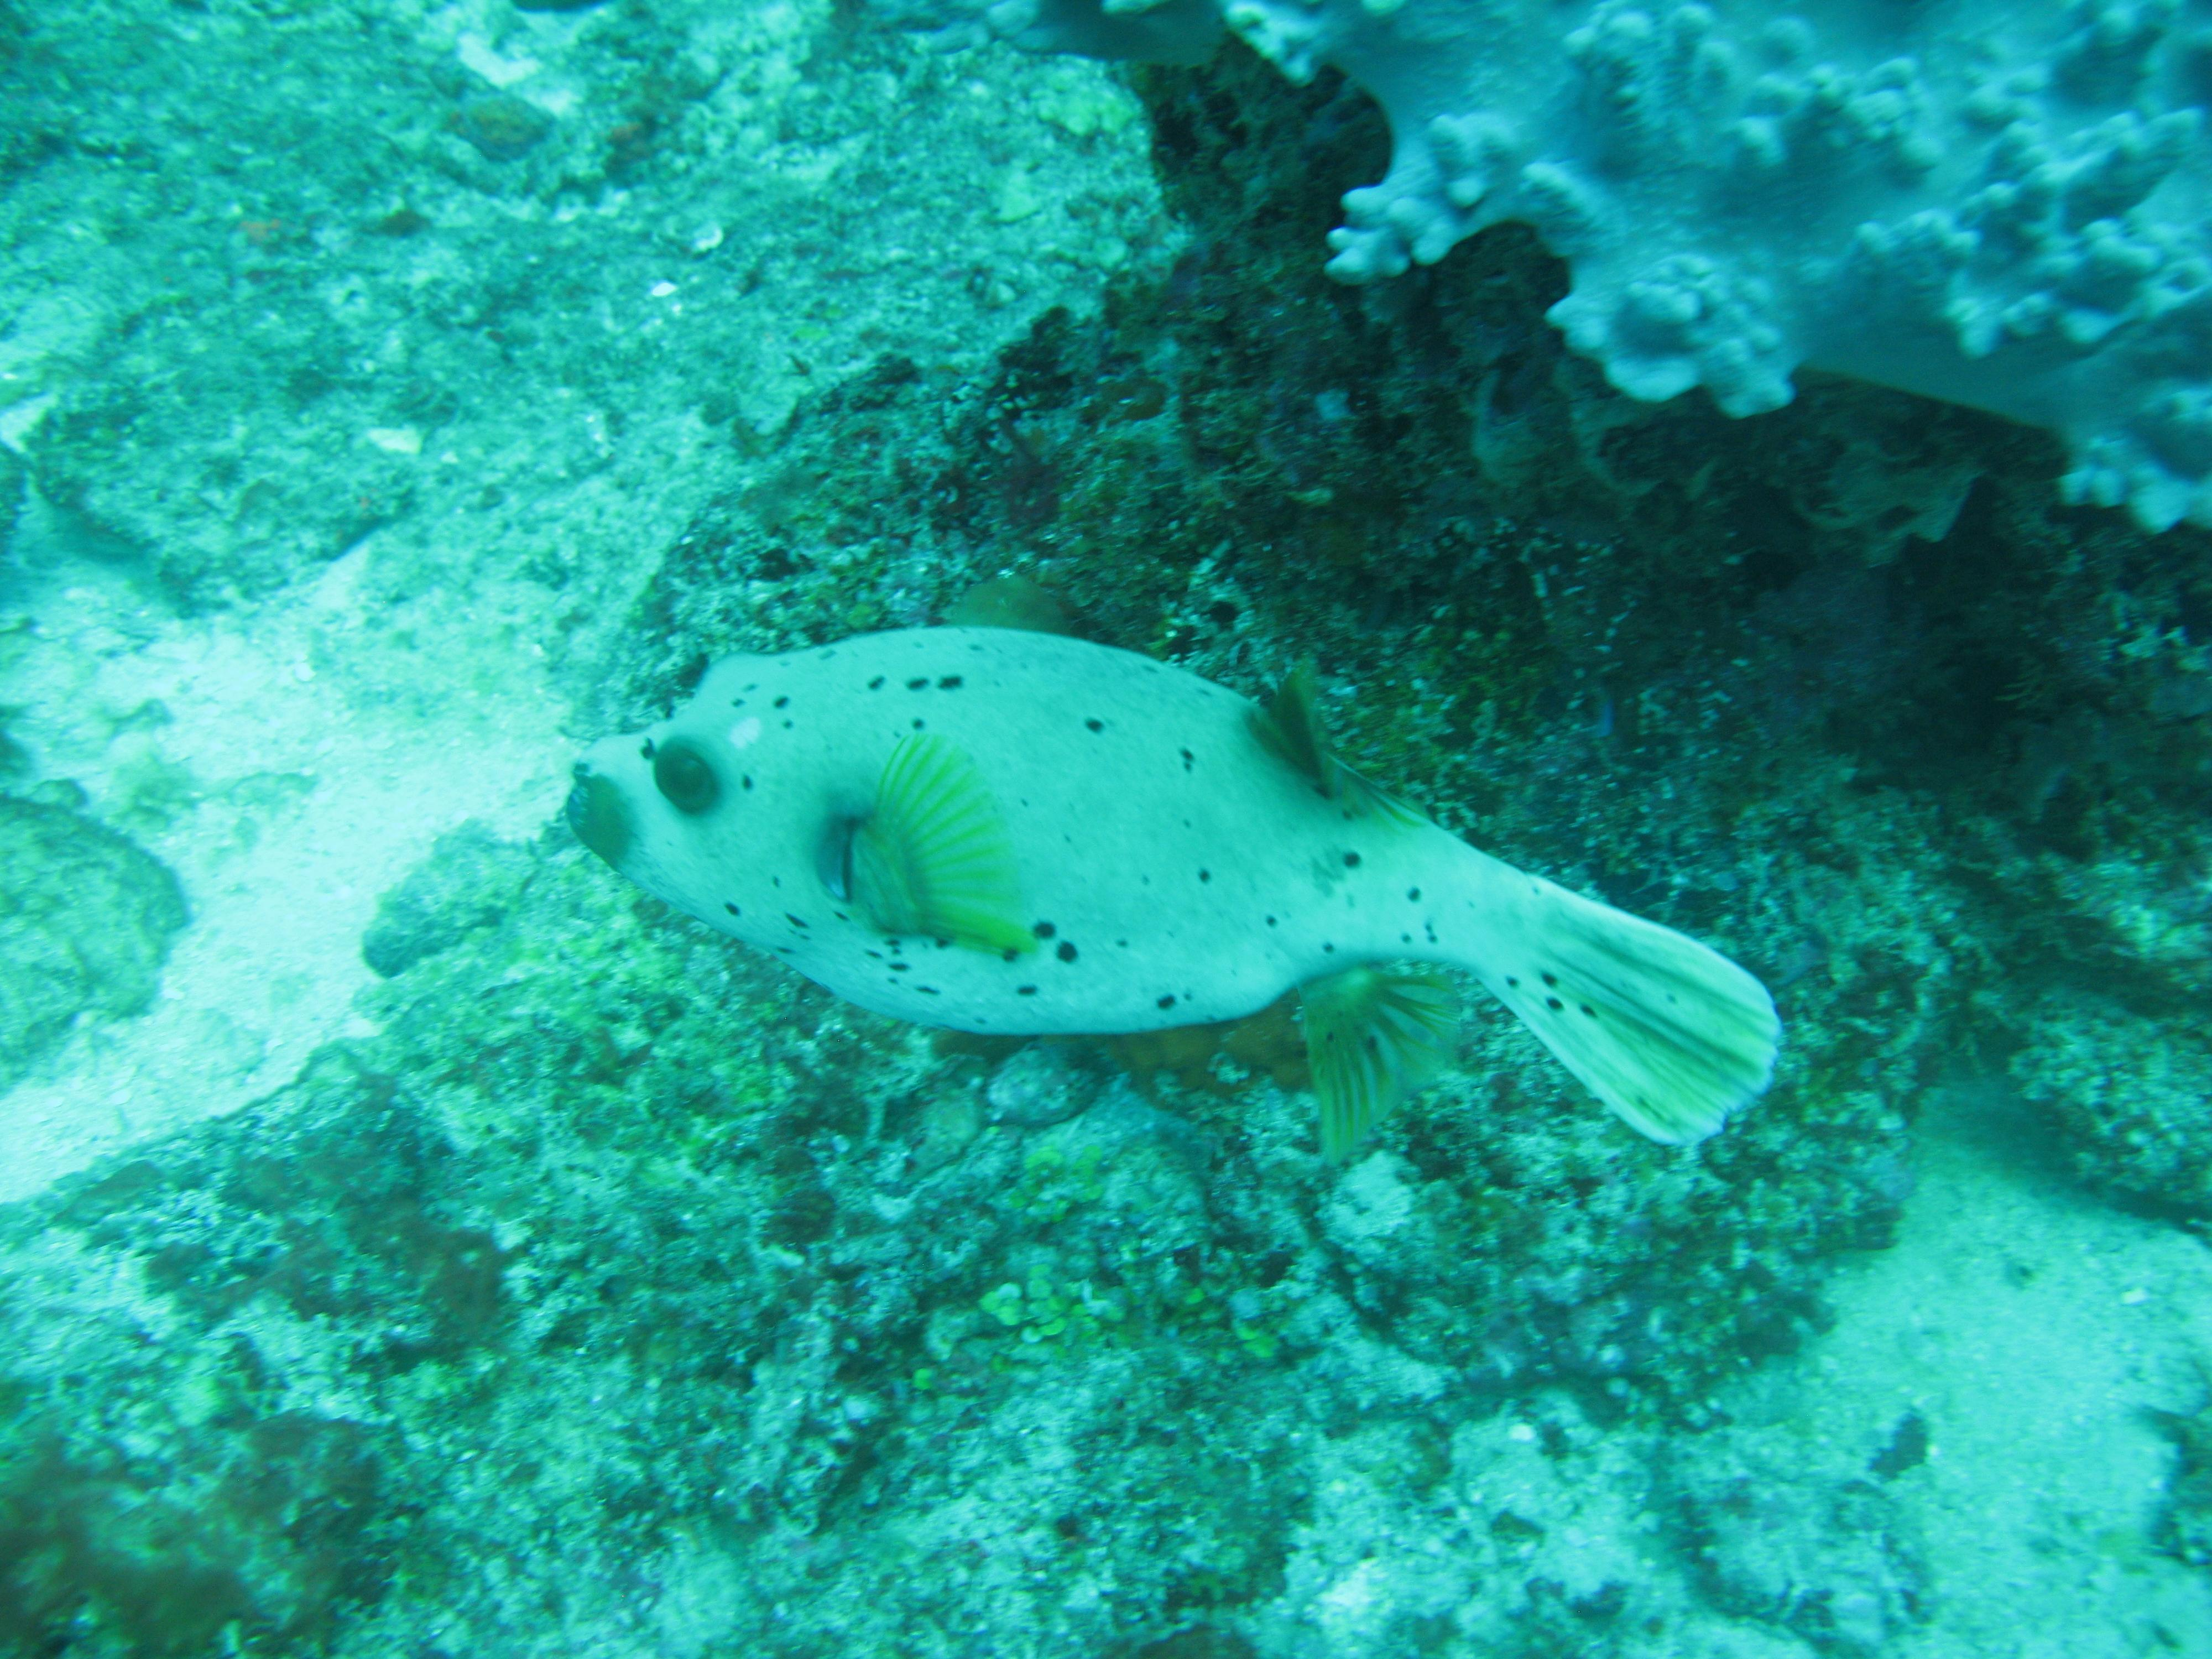Fish: (531, 587, 1803, 1188)
